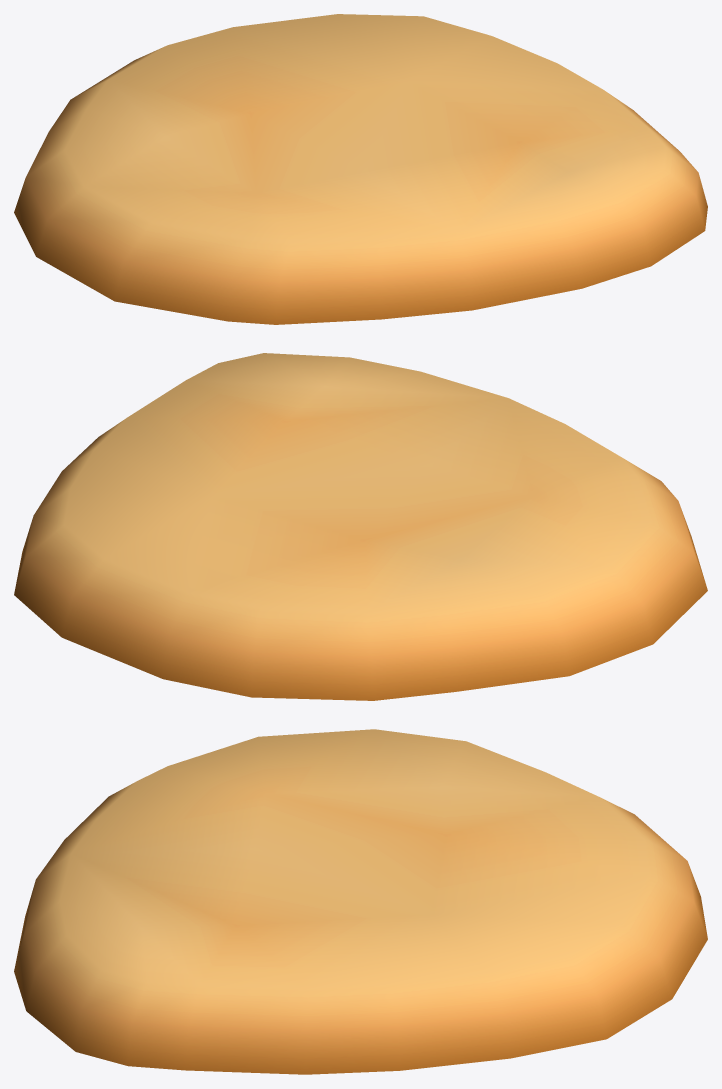
File: Ground 01.FBX
3 views of the same model, one above another, from view 1: azimuth 30°, elevation 25°; view 2: azimuth 150°, elevation 25°; view 3: azimuth 270°, elevation 25° (orthographic). The views are drawn at different scales.
Visible parts, largest first — view 1: Ground 01; view 2: Ground 01; view 3: Ground 01.
Part boxes in pixels (left/top/right/bottom): Ground 01: left=14, top=14, right=707, bottom=324; Ground 01: left=14, top=353, right=707, bottom=700; Ground 01: left=14, top=729, right=707, bottom=1074.
Bounding box in the file's own units: 1474 × 152 × 1428.
1 material, 1 textured.
